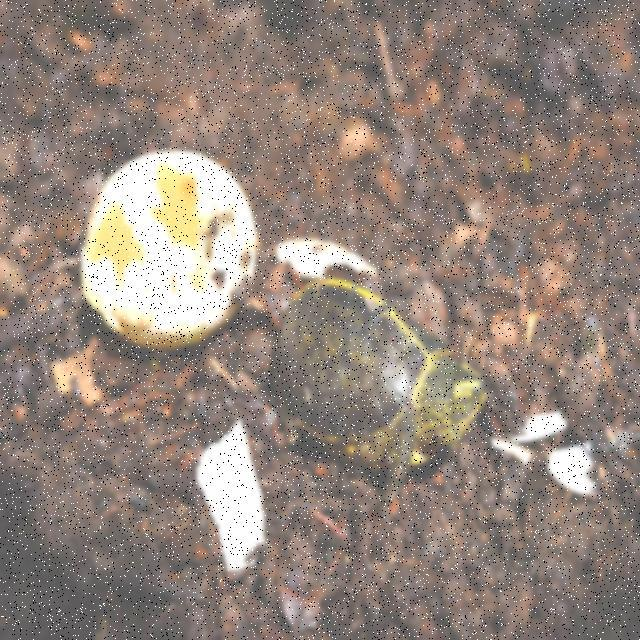tortoise: (260, 275, 494, 485)
